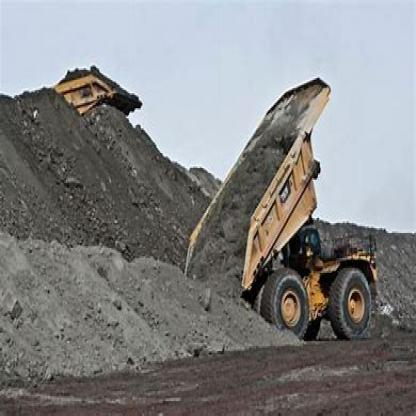dump_truck: (179, 70, 393, 339), (38, 48, 160, 153)
